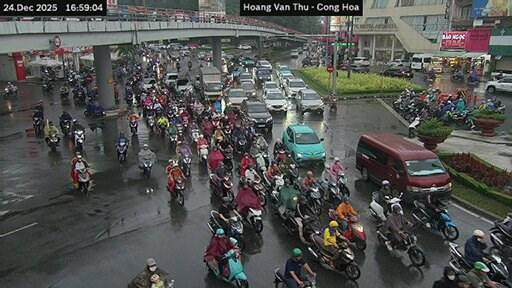motorbike: (307, 234, 358, 278), (412, 199, 457, 238), (205, 248, 247, 287), (327, 208, 365, 250), (368, 190, 402, 225), (393, 232, 425, 265), (489, 212, 511, 256), (486, 253, 511, 286), (448, 242, 470, 273), (208, 172, 232, 199), (224, 216, 243, 248), (300, 185, 319, 215), (323, 180, 342, 206), (166, 179, 185, 205), (245, 207, 262, 232), (249, 179, 265, 205), (263, 172, 282, 192), (207, 210, 224, 232), (76, 167, 89, 193), (288, 163, 300, 189), (336, 171, 348, 196), (115, 138, 127, 162), (179, 153, 191, 176), (83, 104, 105, 116), (253, 153, 265, 174), (408, 117, 421, 136), (258, 147, 268, 171), (224, 145, 233, 171), (141, 158, 152, 179), (32, 117, 44, 134), (73, 129, 83, 149), (377, 229, 390, 244), (234, 135, 246, 151), (198, 144, 208, 163), (274, 268, 284, 287), (3, 85, 16, 98), (221, 126, 230, 144), (47, 135, 57, 151), (60, 120, 70, 135), (73, 90, 84, 103), (167, 134, 176, 149), (189, 127, 198, 142), (42, 81, 53, 93), (156, 122, 166, 135), (176, 124, 184, 140), (128, 120, 137, 134), (300, 278, 314, 287), (124, 94, 133, 108), (329, 94, 336, 111), (451, 73, 464, 81), (426, 72, 435, 80), (60, 90, 67, 100), (147, 122, 153, 131), (147, 116, 153, 122), (345, 167, 346, 169)
